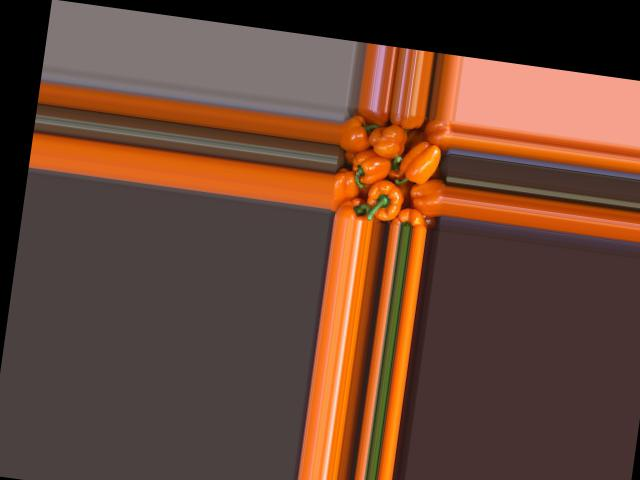bell_pepper: (351, 106, 397, 136)
